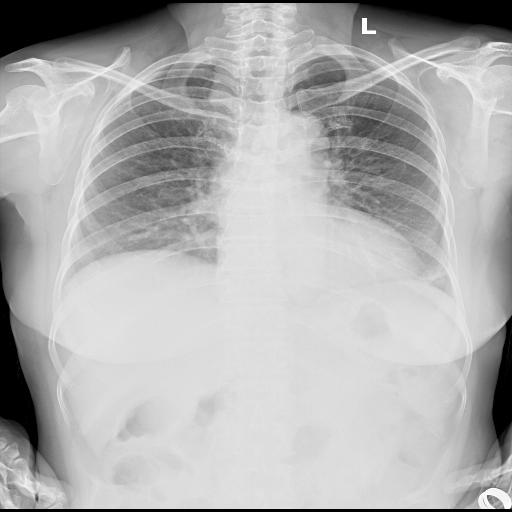Aortic enlargement: (238, 83, 298, 137)
Cardiomegaly: (104, 213, 320, 257)
Lung Opacity: (199, 40, 225, 86)
